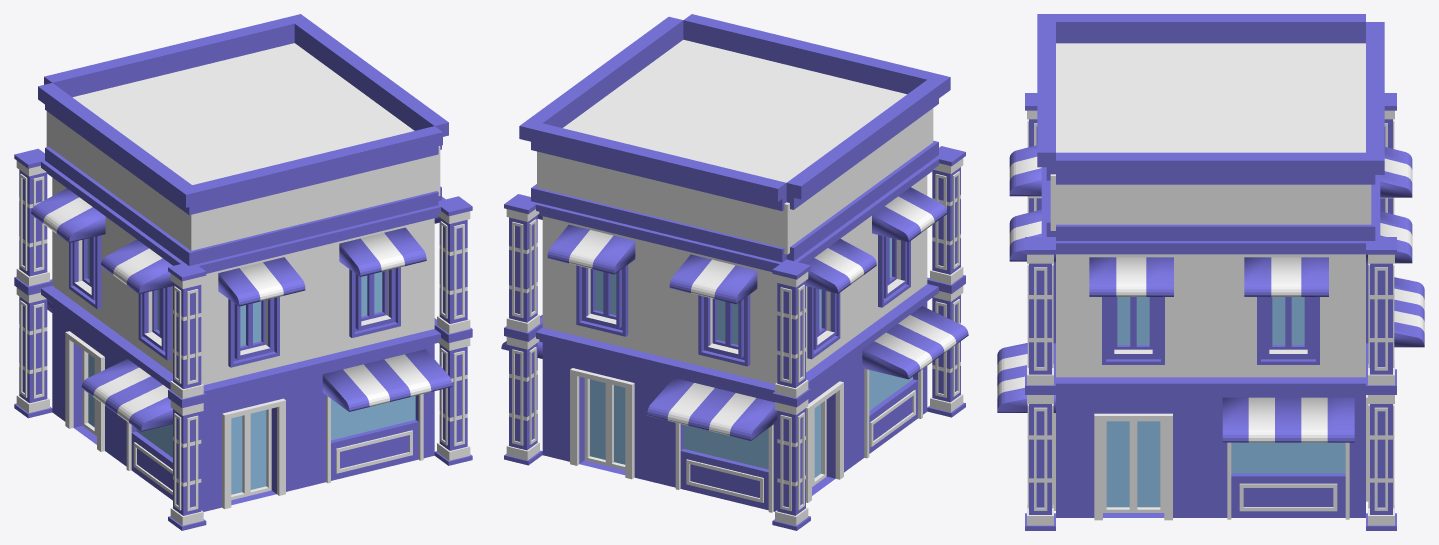
File: Building_1.fbx
The picture shows the model from 3 angles, left to right: view 1: azimuth 30°, elevation 25°; view 2: azimuth 150°, elevation 25°; view 3: azimuth 270°, elevation 25°; orthographic projection. The views are drawn at different scales.
Parts seen in each view (by area): view 1: 2-Home; view 2: 2-Home; view 3: 2-Home.
Boxes of the visible parts, x1,y1,x2,y2 form: 2-Home: (14, 14, 472, 530); 2-Home: (501, 14, 968, 530); 2-Home: (997, 14, 1424, 530).
Size of the model in its own units: 552 by 520 by 552.
